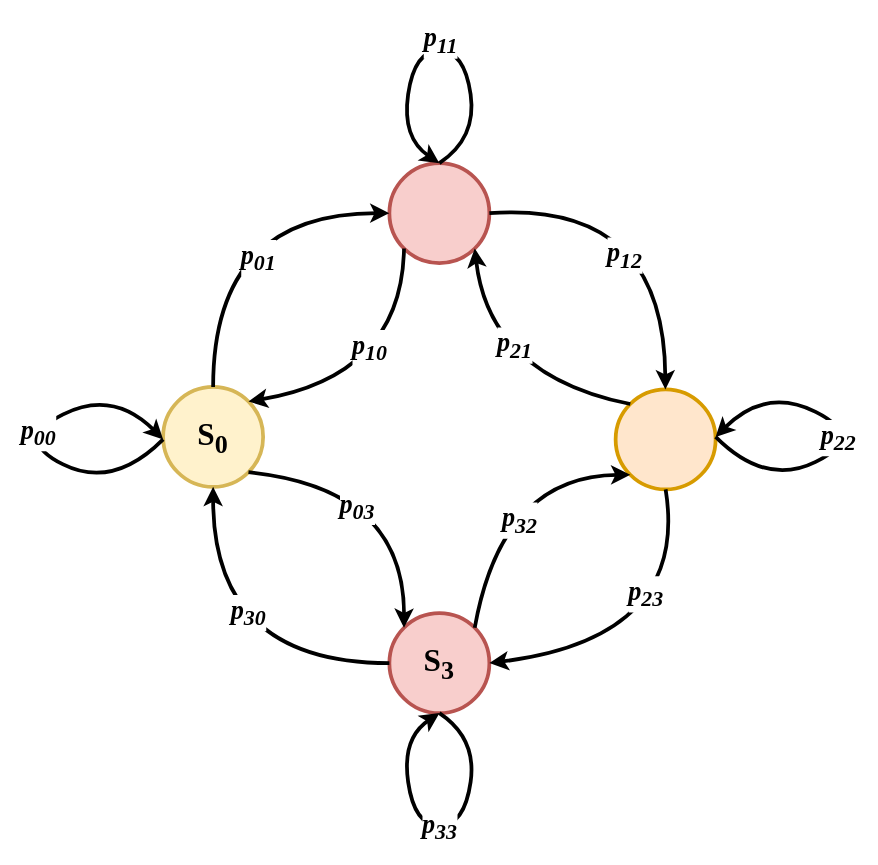
The diagram is 878 pixels wide and 865 high, and some of its shapes have lost their labels. The centre of each missing label's shape, as x and y in pixels:
"S 1" belongs at pixel 439 212.
"S 2" belongs at pixel 665 439.
